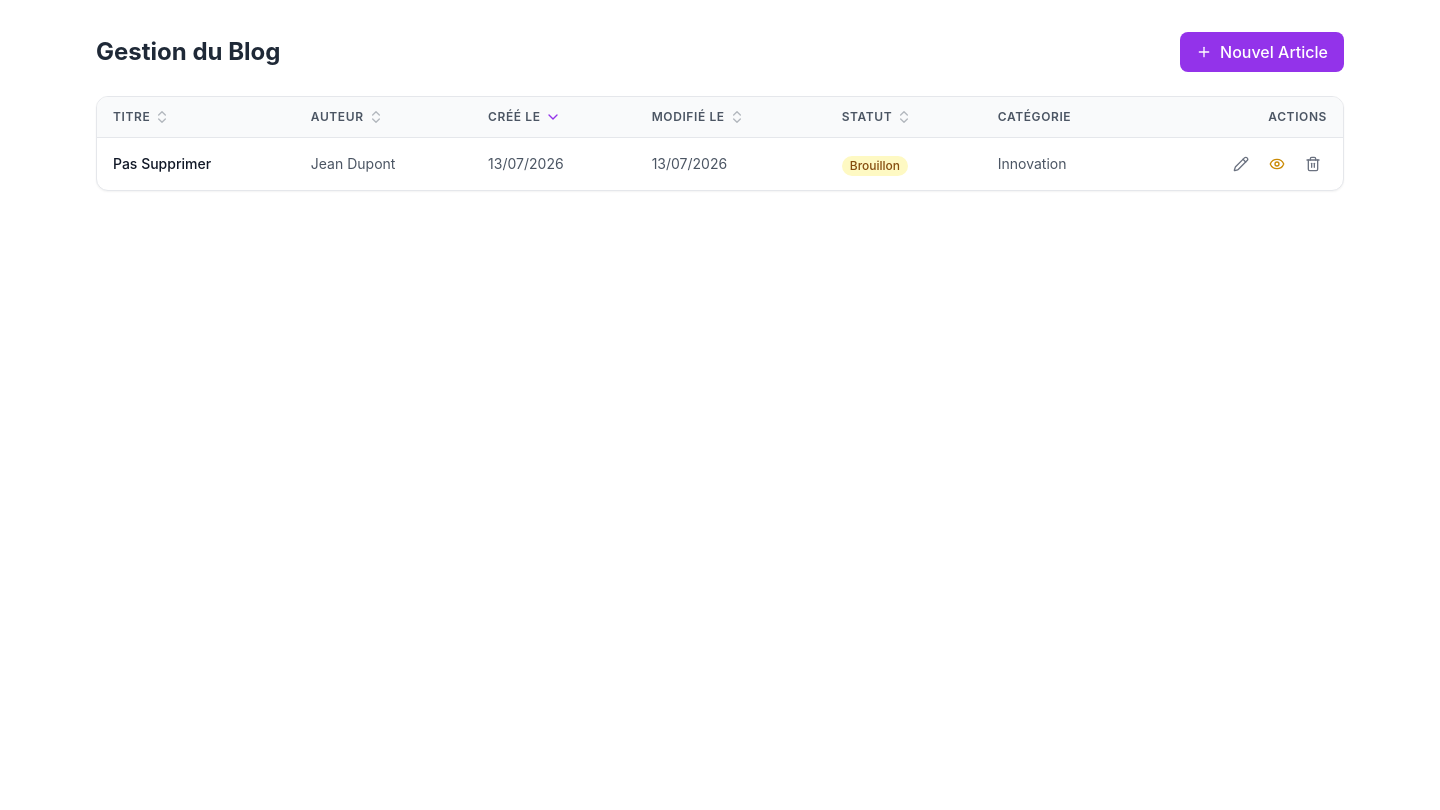
AdminDashboard › Requirement 7.7 — Confirmation de suppression › ferme le dialogue sans supprimer au clic sur Annuler
Click the button named "supprimer l'article \"pas supprimer\"".
click(1313, 164)  # box [1299,150,1327,178]
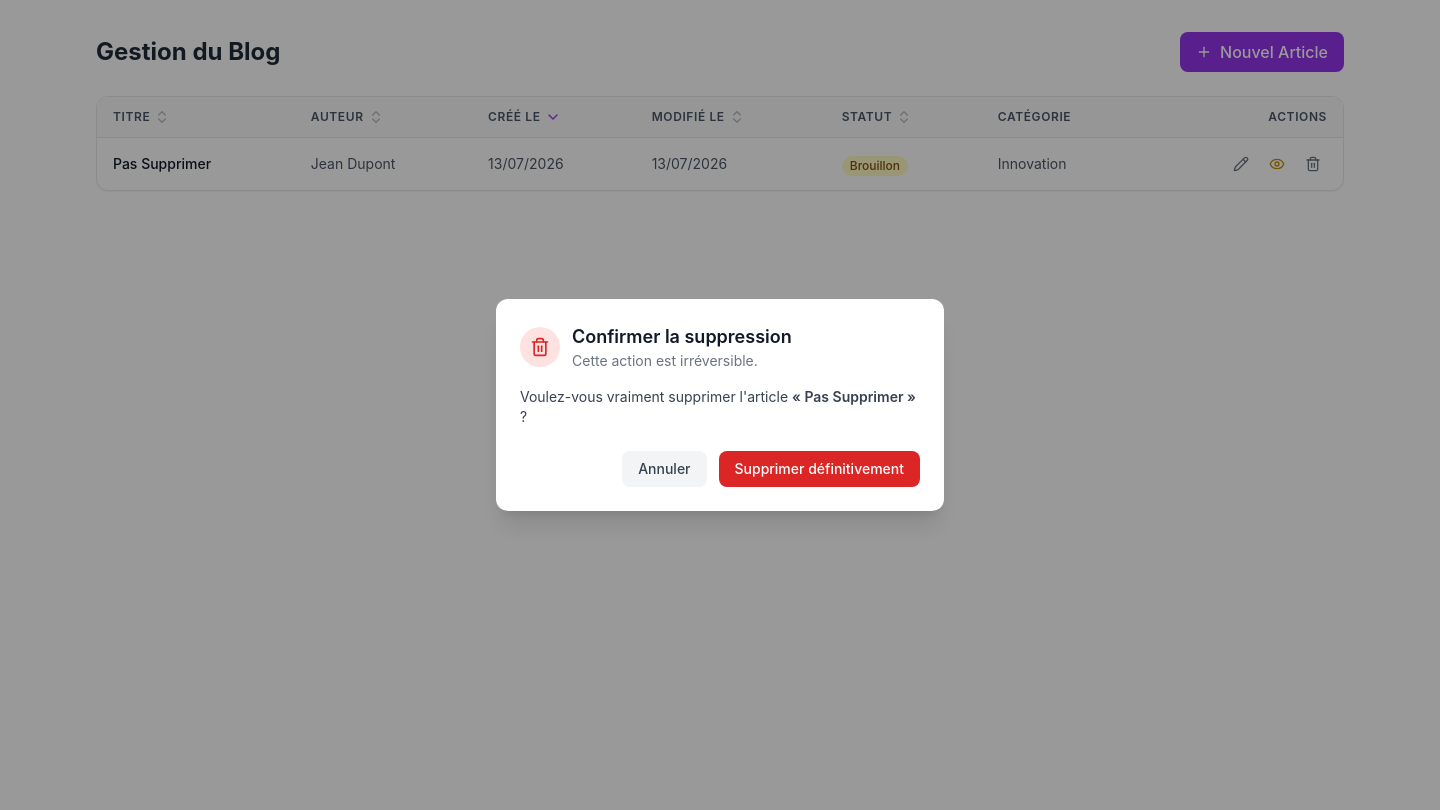
Expected: the dialog is shown
Click the button "Annuler".
click(664, 469)  # box [622,451,707,487]
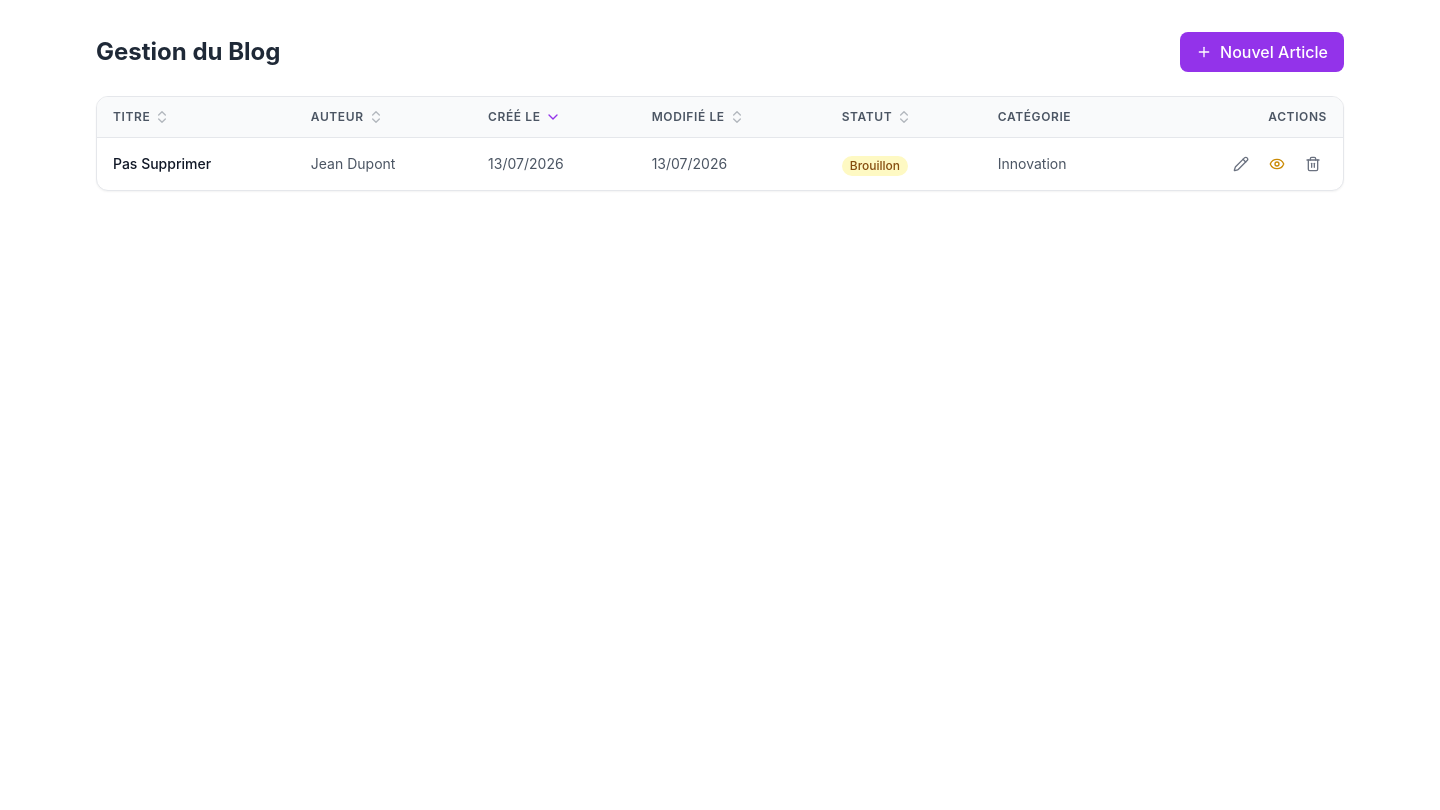
Expected: the button "Pas Supprimer" is shown, [113,154,211,174]
Expected: the dialog is gone
